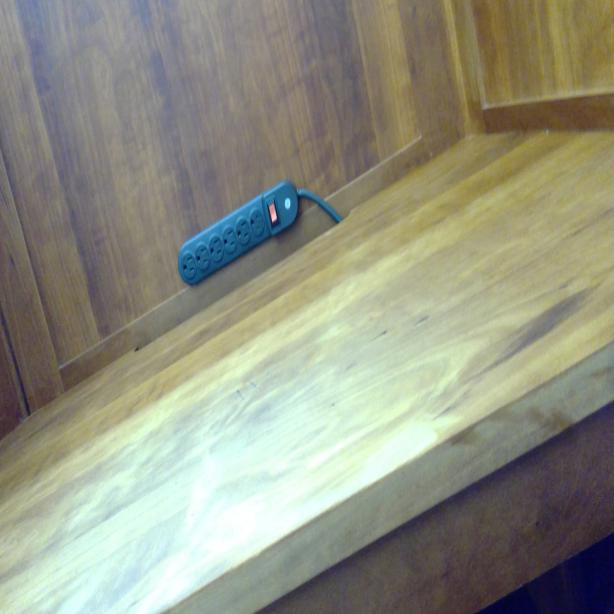typeb: (235, 212, 252, 246), (176, 252, 196, 278), (249, 206, 265, 236), (208, 232, 224, 260), (222, 225, 238, 252), (194, 241, 209, 268)
